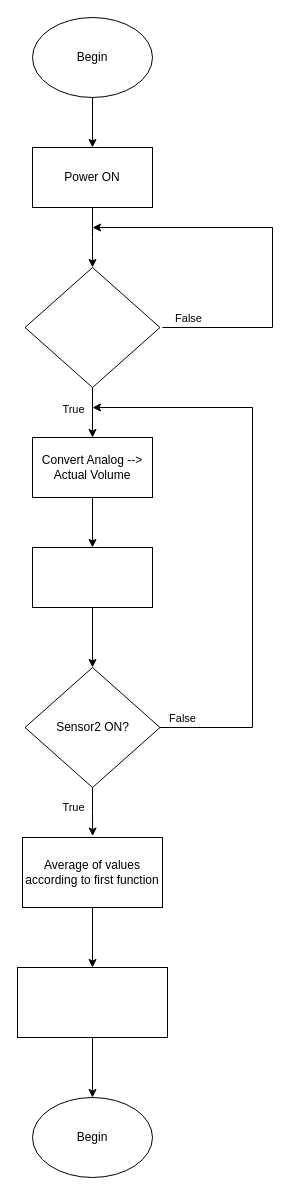
The diagram is 298 pixels wide and 1195 high, and some of its shapes have lost their labels. Here are the shapes that lost their labels. From the top down, the box of each, then its label:
(24, 266, 160, 388): Sensor1 ON?
(32, 546, 152, 608): Average of the values
(16, 966, 168, 1038): Reset all value to 0
